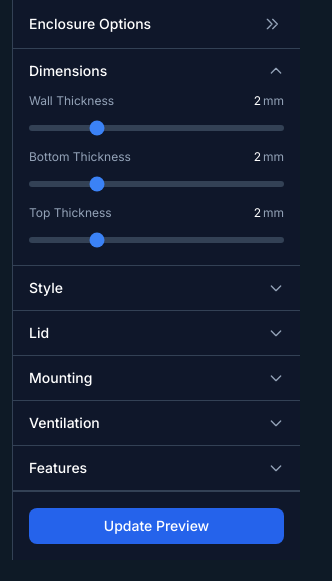
EnclosureOptionsPanel › expands section when clicked
The image size is (332, 581).
// Click on Style section to expand it
What coordinates should you click on to do the following:
click the button "Style"
I would click on:
 (46, 288)
Its box is [13,266,300,310].
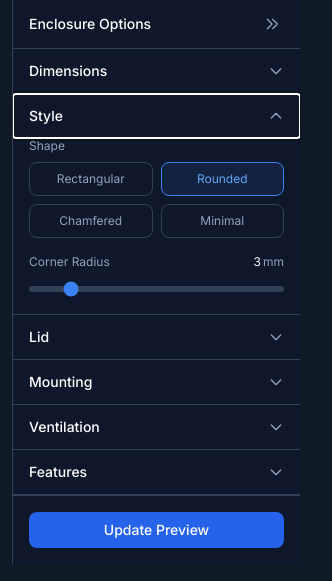
expect the text "Shape" is shown: met, box [29,138,65,153]
